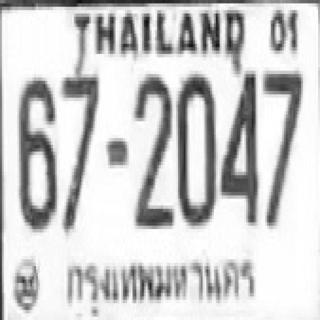N00: (176, 71, 214, 222)
N02: (134, 71, 171, 226)
N04: (220, 67, 257, 222)
N06: (17, 74, 55, 226)
N07: (261, 67, 301, 226), (61, 69, 98, 231)
P04: (58, 249, 260, 315)
